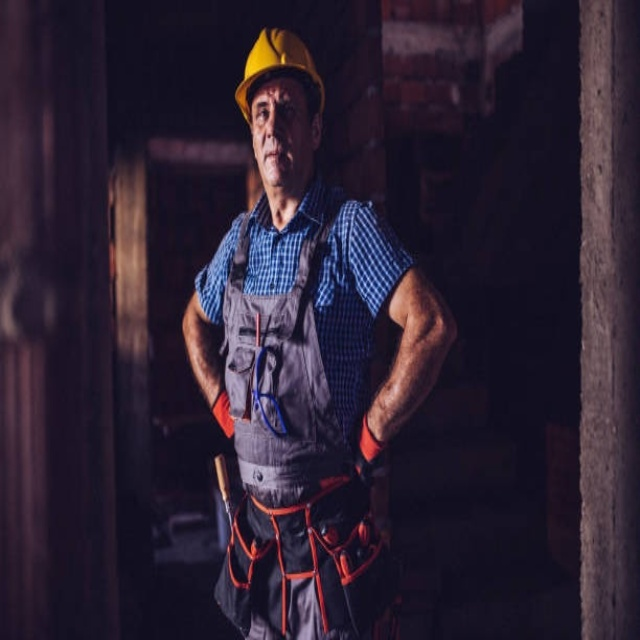Guantes: (358, 411, 387, 467), (211, 388, 236, 440)
Sin_gafas: (251, 88, 302, 124)
Sin_mascara: (259, 143, 297, 176)
